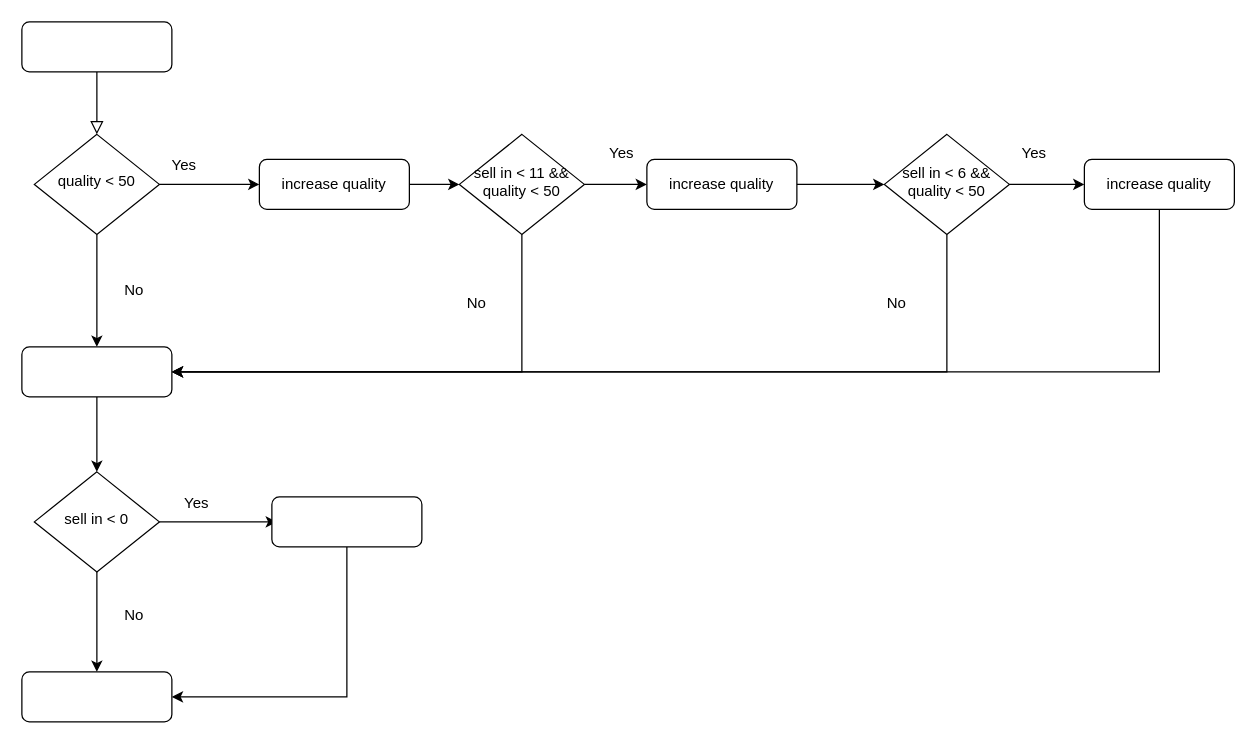
Some shapes in this 1256 by 744 pixel diagram are drawn without their labels. Here are the shapes that lost their labels. From the top down, the centre of each, then its label:
point (96, 46): Passes
point (96, 371): decrease sell in
point (346, 521): Set quality to 0
point (96, 696): End
